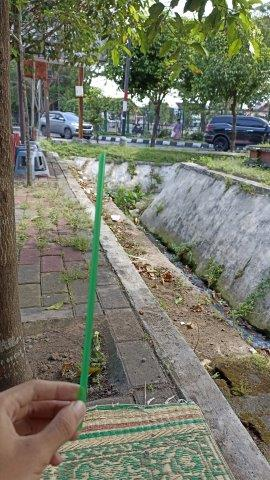sedotan: (73, 154, 105, 428)
